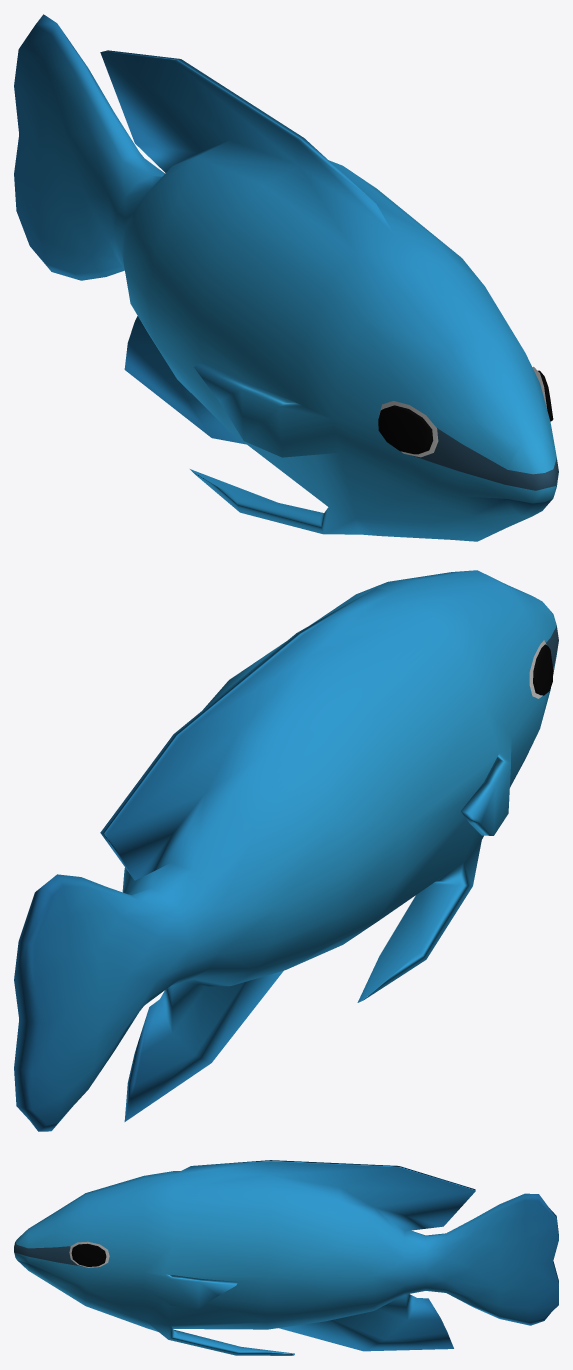
The picture shows the model from 3 angles, top to bottom: view 1: azimuth 30°, elevation 25°; view 2: azimuth 150°, elevation 25°; view 3: azimuth 270°, elevation 25°; orthographic projection. The views are drawn at different scales.
Visible parts, largest first — view 1: base.807; view 2: base.807; view 3: base.807.
Part boxes in pixels (<box>): base.807: <box>14,14,558,541</box>; base.807: <box>14,570,558,1131</box>; base.807: <box>14,1160,558,1355</box>.
Bounding box in the file's own units: 0.1543 × 0.1926 × 0.5.
